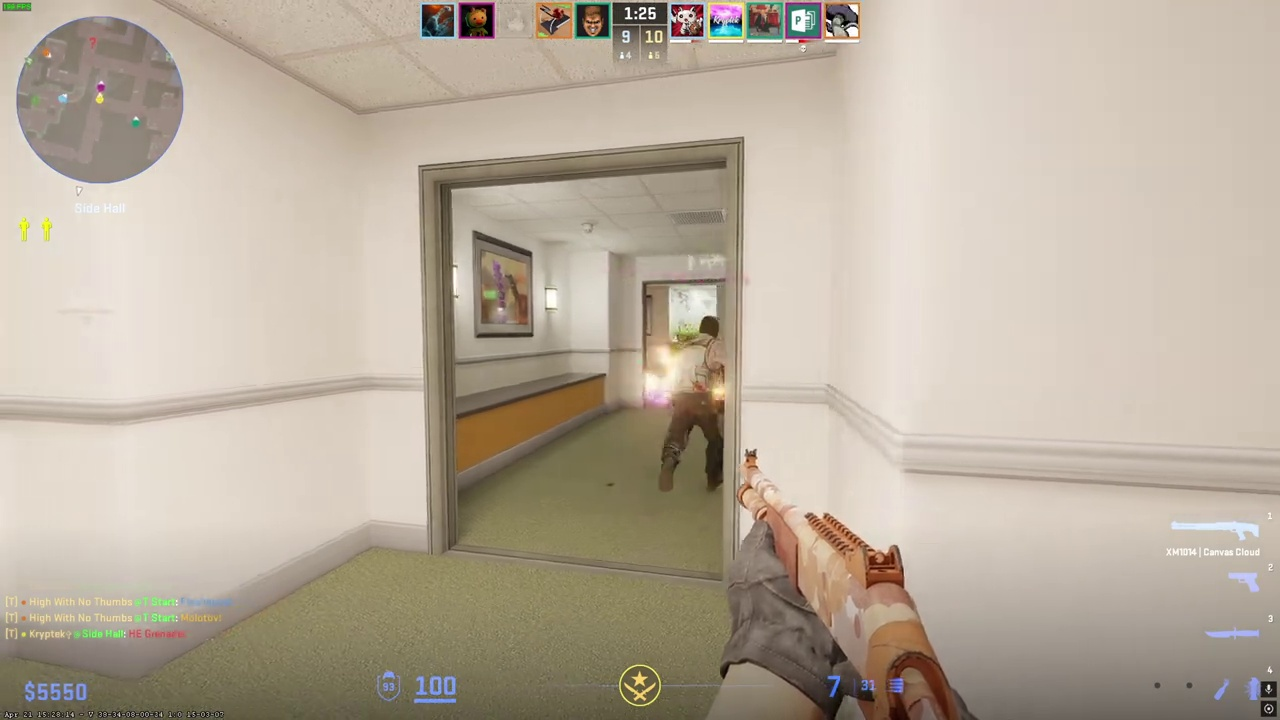Terrorist: (658, 315, 726, 493)
